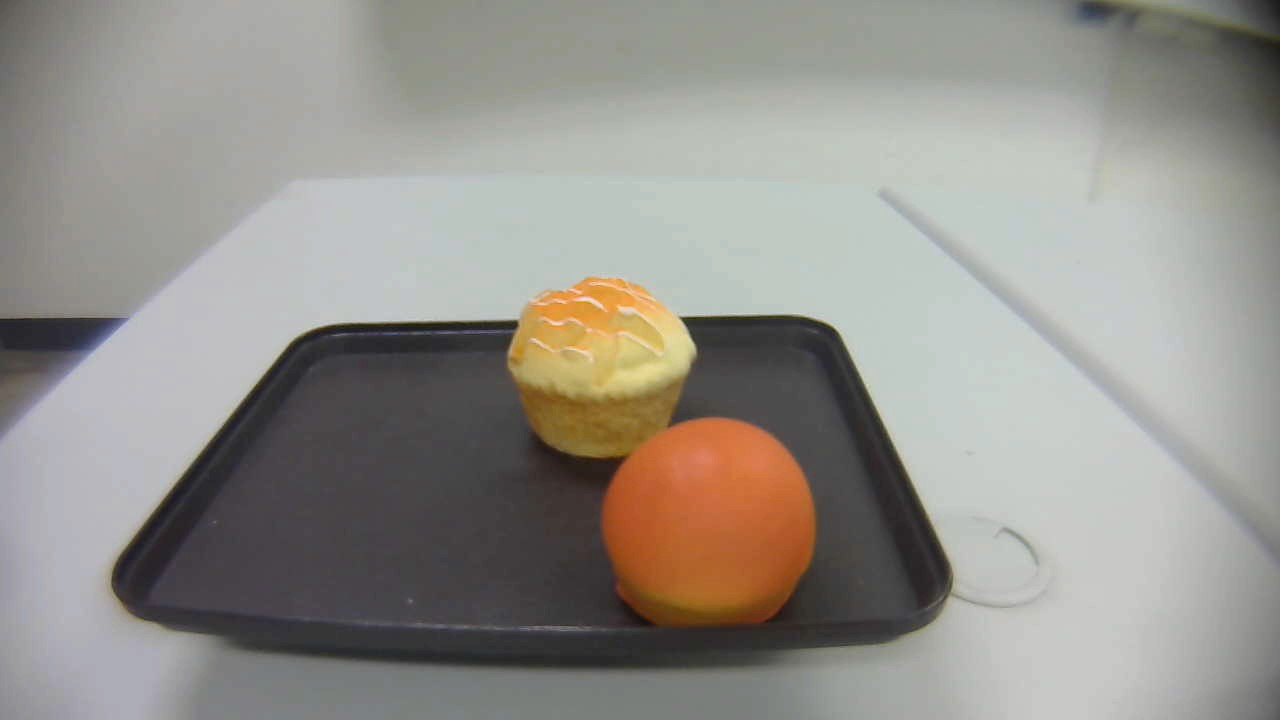bun: (602, 417, 818, 627)
cupcake: (508, 277, 698, 460)
